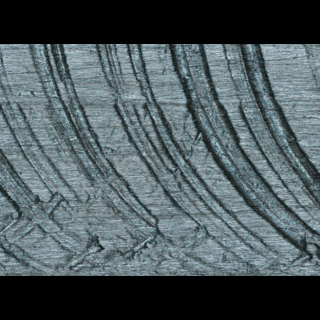d: (0, 46, 317, 275)
